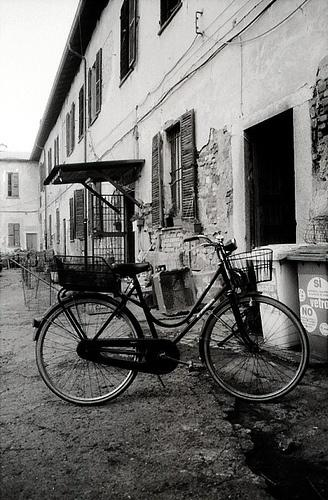bicycle: (32, 232, 311, 407)
